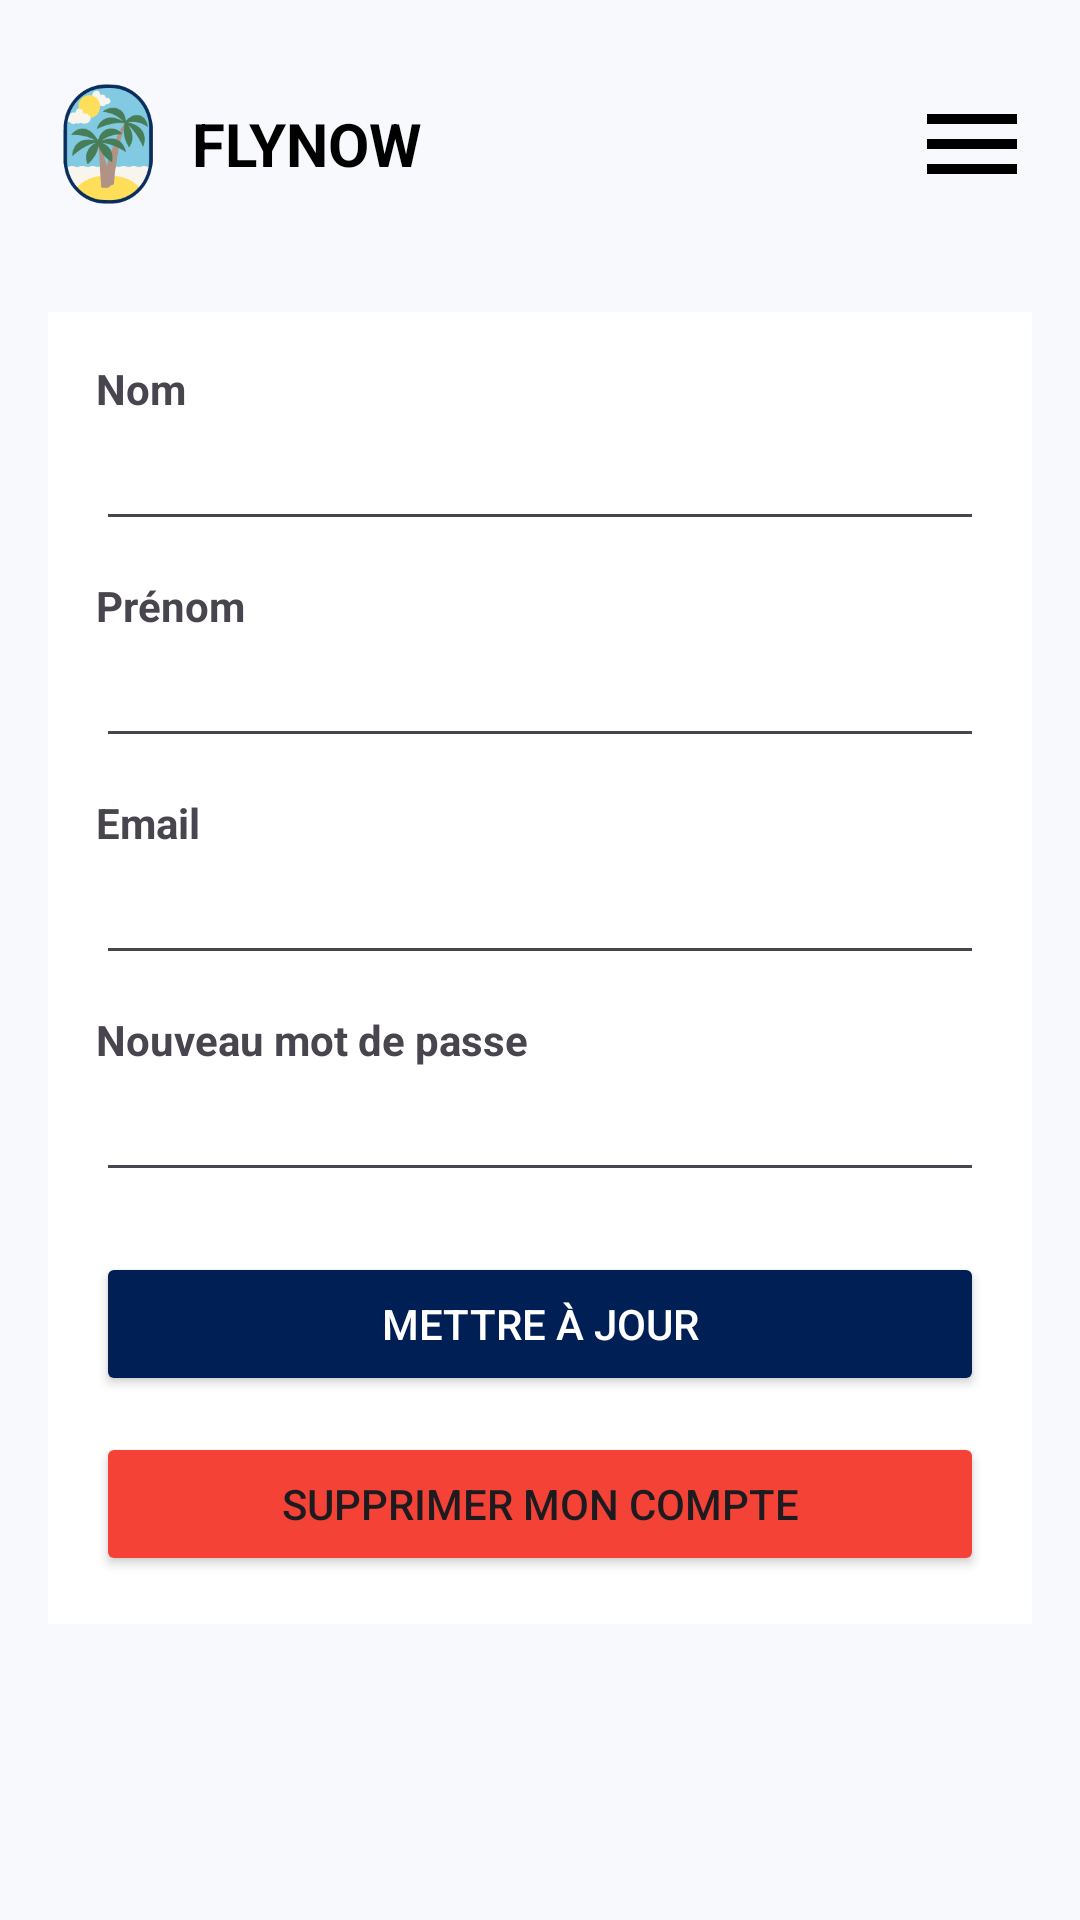

Locate icon controls on the screen. Image size 1080 × 1920, boxes as detection(x1, y1, x2, y2).
Menu: detection(927, 114, 1017, 174)
